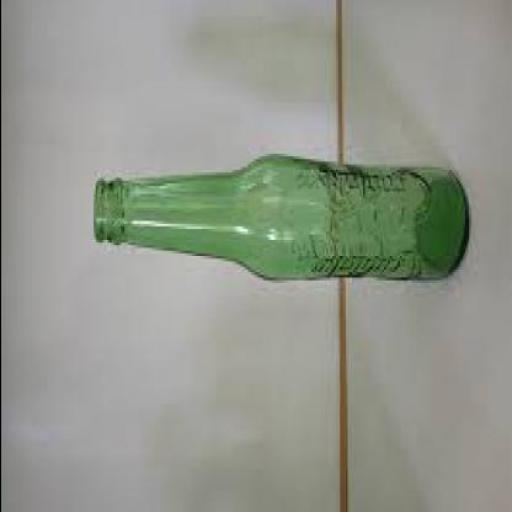glass: (90, 160, 466, 282)
